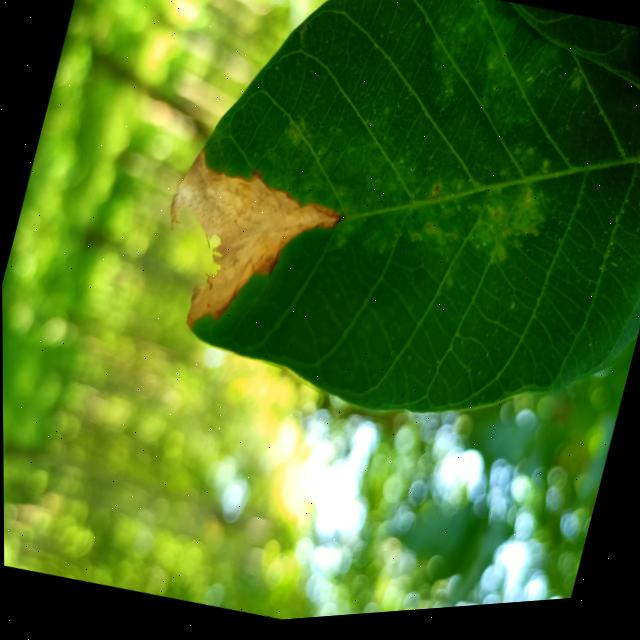Leaf-Blight: (136, 138, 352, 366)
